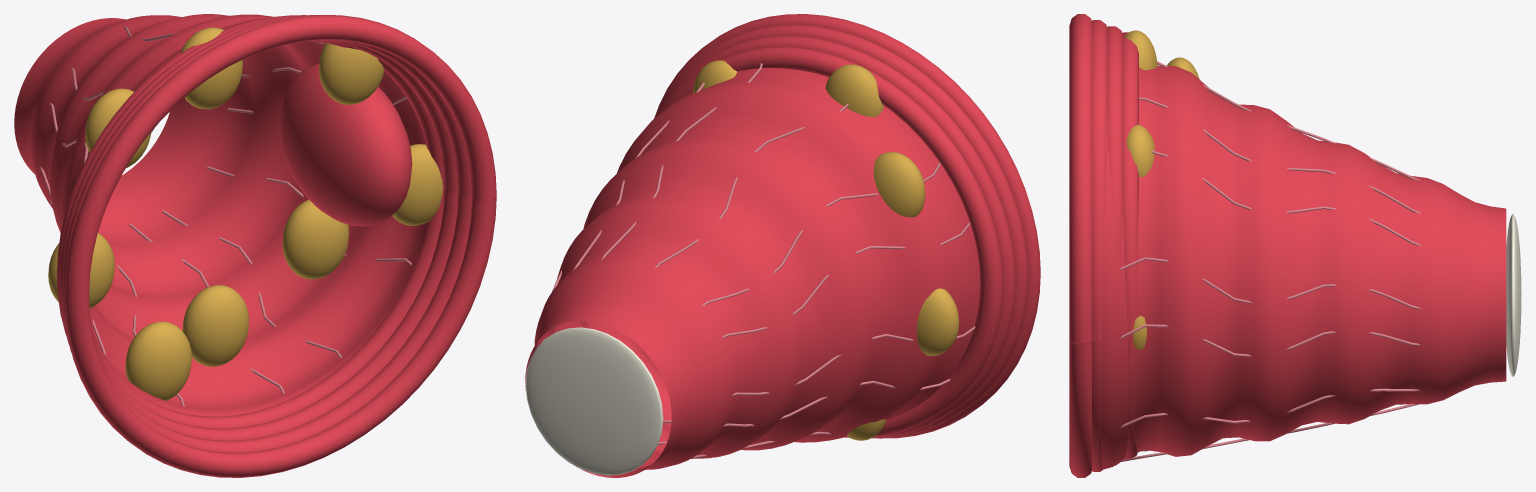
The model's file is ear-inflamed.glb.
3 views of the same model, side by side, from view 1: azimuth 30°, elevation 25°; view 2: azimuth 150°, elevation 25°; view 3: azimuth 270°, elevation 25° (orthographic). The views are drawn at different scales.
Visible parts, largest first — view 1: ear canal wall, canal fold.004, clinical swelling, canal fold.005, canal fold.006, canal fold.007, clinical wax.003, clinical wax.008, clinical wax.006, clinical wax.004, clinical wax.001, clinical wax.007 (+3 smaller); view 2: ear canal wall, tympanic membrane.001, canal fold.007, canal fold.004, canal fold.005, canal fold.006, clinical wax.002, clinical wax.005, clinical wax.007, clinical wax.004, capillary.022, capillary.014; view 3: ear canal wall, canal fold.004, canal fold.005, canal fold.007, canal fold.006, tympanic membrane.001, clinical wax.004, clinical wax.007, capillary.021, capillary.013, capillary.018, capillary.024 (+3 smaller).
Boxes of the visible parts, x1,y1,x2,y2 form: ear canal wall: [14, 14, 426, 416]; canal fold.004: [64, 15, 496, 477]; clinical swelling: [278, 64, 412, 226]; canal fold.005: [62, 15, 471, 452]; canal fold.006: [59, 15, 457, 440]; canal fold.007: [56, 15, 444, 428]; clinical wax.003: [182, 285, 248, 366]; clinical wax.008: [125, 321, 191, 400]; clinical wax.006: [282, 199, 348, 279]; clinical wax.004: [319, 43, 384, 104]; clinical wax.001: [392, 144, 442, 225]; clinical wax.007: [180, 27, 242, 109]; ear canal wall: [525, 49, 979, 477]; tympanic membrane.001: [525, 327, 663, 475]; canal fold.007: [661, 47, 1002, 437]; canal fold.004: [654, 14, 1040, 438]; canal fold.005: [655, 25, 1027, 438]; canal fold.006: [657, 36, 1015, 438]; clinical wax.002: [873, 152, 925, 217]; clinical wax.005: [916, 288, 959, 355]; clinical wax.007: [825, 64, 883, 117]; clinical wax.004: [693, 60, 736, 93]; capillary.022: [722, 222, 970, 338]; capillary.014: [702, 162, 940, 305]; ear canal wall: [1081, 65, 1506, 469]; canal fold.004: [1069, 14, 1091, 477]; canal fold.005: [1090, 20, 1106, 471]; canal fold.007: [1122, 32, 1138, 459]; canal fold.006: [1107, 26, 1122, 465]; tympanic membrane.001: [1506, 214, 1521, 376]; clinical wax.004: [1126, 124, 1154, 177]; clinical wax.007: [1124, 30, 1157, 70]; capillary.021: [1120, 257, 1420, 309]; capillary.013: [1120, 324, 1420, 356]; capillary.018: [1120, 388, 1420, 428]; capillary.024: [1139, 97, 1420, 213].
Bounding box in the file's own units: 1.37 × 1.37 × 1.33.
